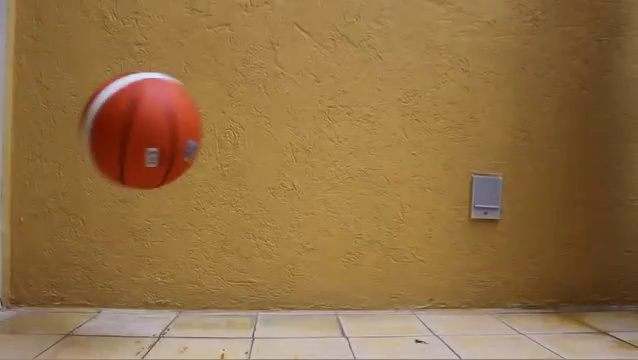ball: (79, 66, 202, 193)
